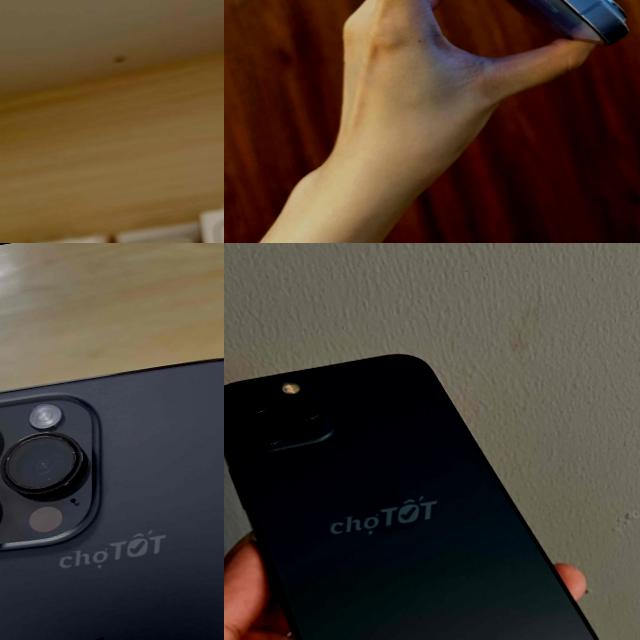gen_12_13: (224, 324, 618, 640)
gen_14: (0, 343, 224, 640), (431, 0, 631, 75)
gen_15: (0, 46, 140, 243)
